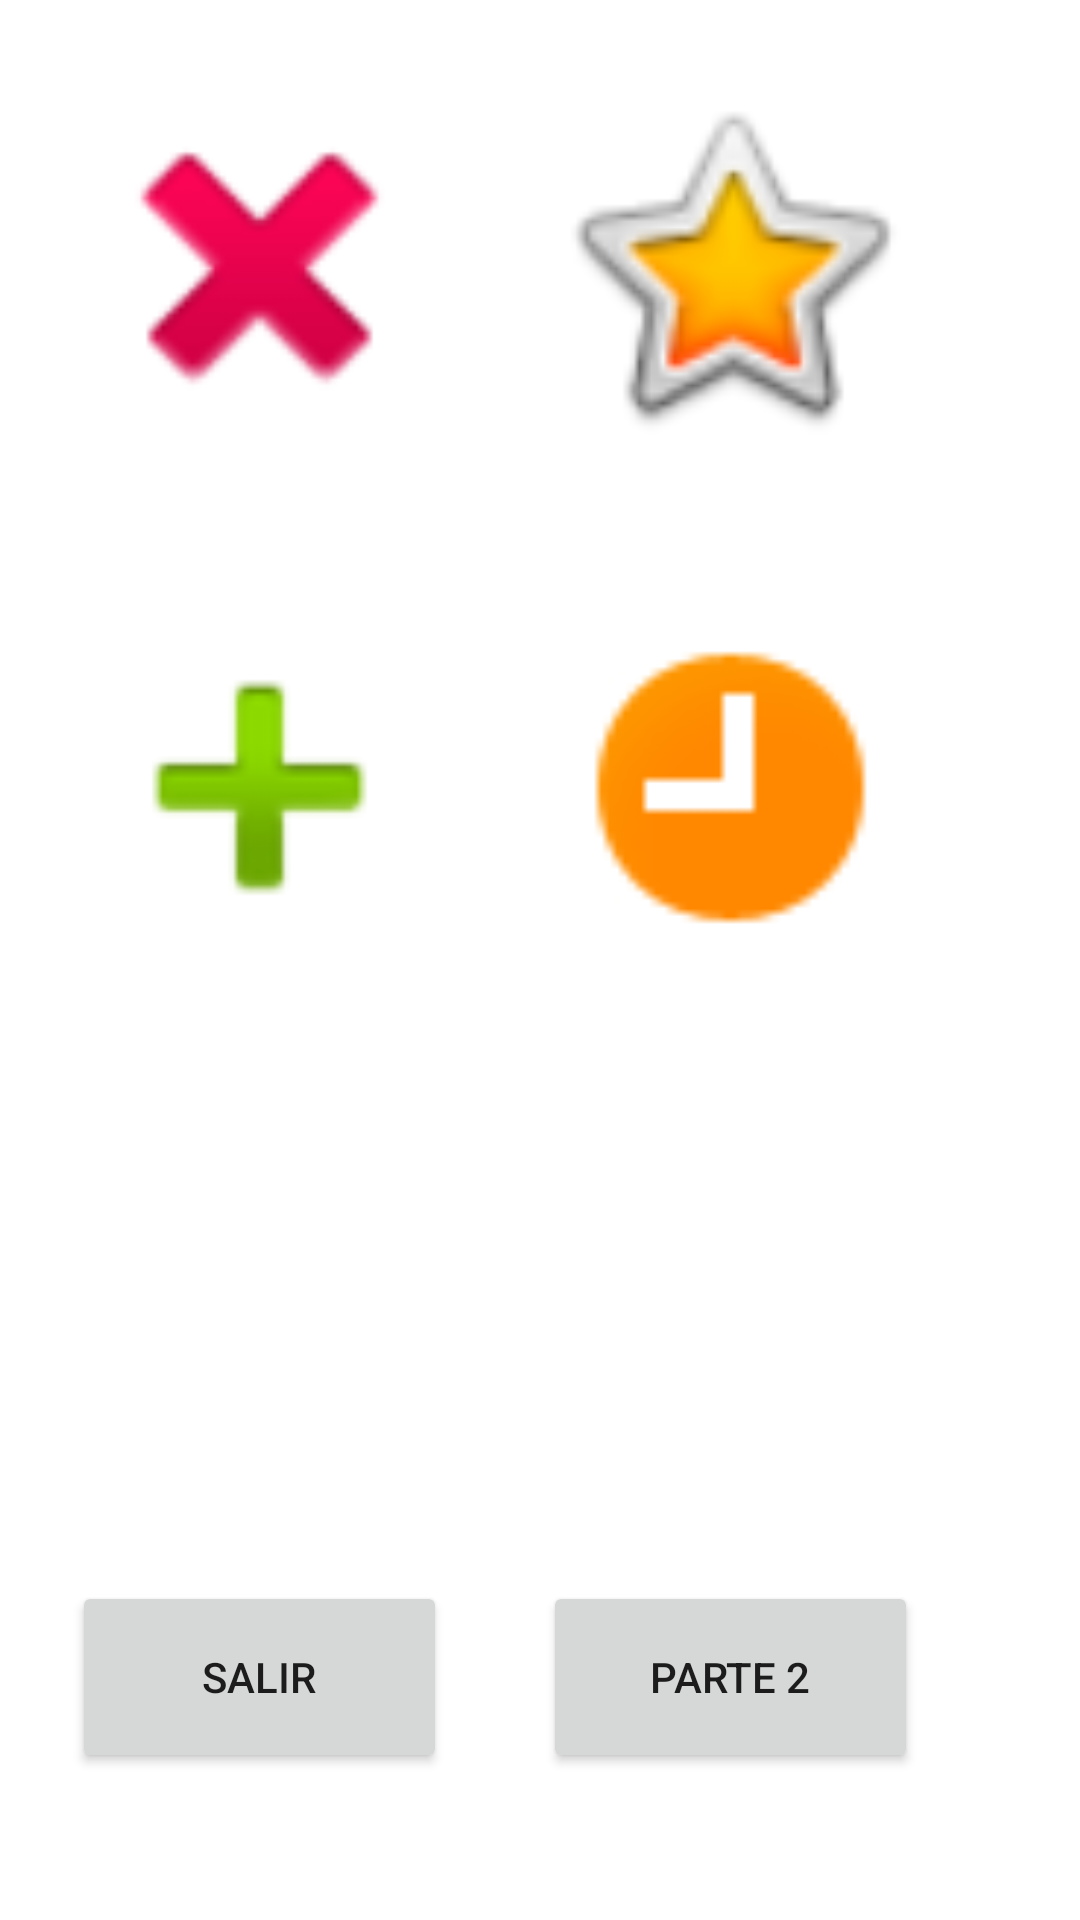

Icons on this 1080 x 1920 Android screen, each with its box as (x1, y1, x2, y2):
add: (153, 681, 366, 894)
delete: (140, 152, 379, 383)
presence away: (595, 652, 866, 923)
star on: (577, 116, 890, 421)
